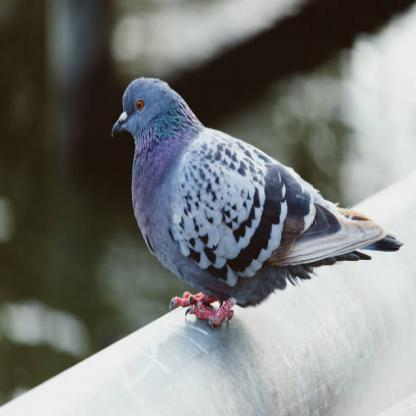Flying Rat: (106, 61, 380, 328)
